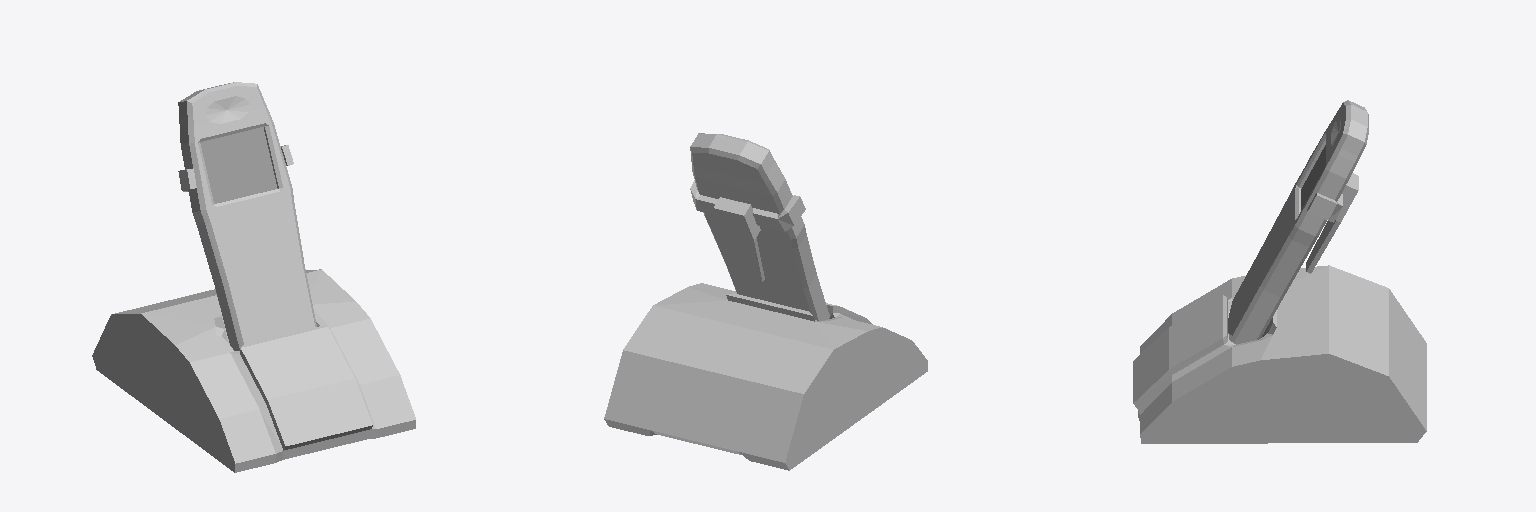
Rendered from wirelessOfficePhone3.obj.
3 renders of one model, left to right at view 1: azimuth 30°, elevation 25°; view 2: azimuth 150°, elevation 25°; view 3: azimuth 270°, elevation 25°, orthographic.
Parts seen in each view (by area): view 1: tele.001_Plane.001, tele_Plane.108; view 2: tele.001_Plane.001, tele_Plane.108; view 3: tele.001_Plane.001, tele_Plane.108.
Boxes of the visible parts, x1,y1,x2,y2 form: tele.001_Plane.001: [92, 269, 415, 472]; tele_Plane.108: [178, 82, 316, 350]; tele.001_Plane.001: [604, 283, 927, 470]; tele_Plane.108: [690, 133, 829, 320]; tele.001_Plane.001: [1133, 265, 1426, 443]; tele_Plane.108: [1228, 100, 1368, 344].
Size of the model in its own units: 11.21 by 17.07 by 15.75.